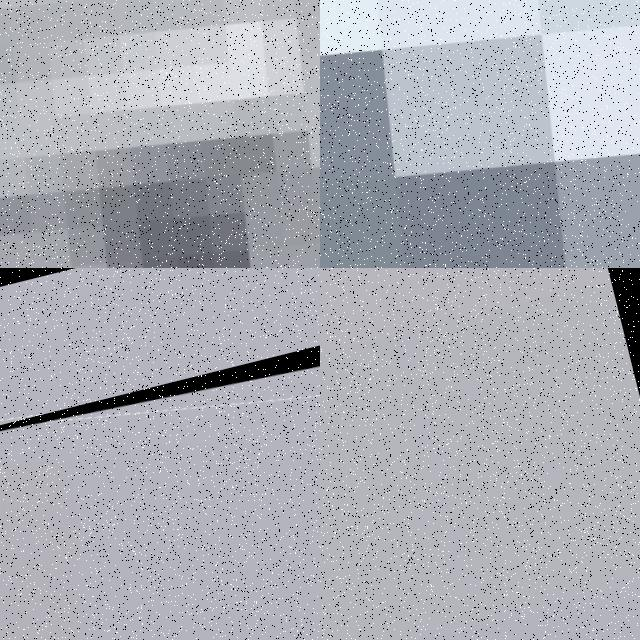0: (0, 303, 320, 640), (0, 0, 320, 268)
drone: (320, 0, 640, 268)
